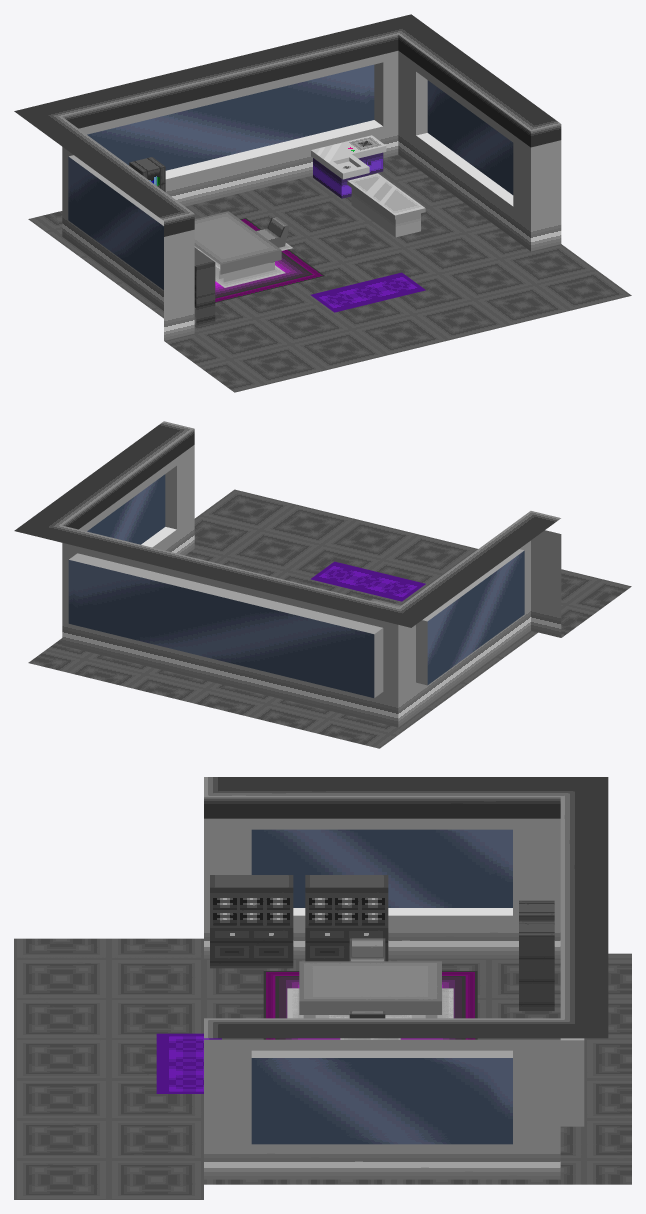
File: ROOM21.obj
3 views of the same model, one above another, from view 1: azimuth 30°, elevation 25°; view 2: azimuth 150°, elevation 25°; view 3: azimuth 270°, elevation 25° (orthographic). The views are drawn at different scales.
Parts seen in each view (by area): view 1: polygon0, polygon1, polygon2, polygon3, polygon5, polygon11, polygon7, polygon10, polygon8, polygon9, polygon6, polygon4; view 2: polygon0, polygon3, polygon1, polygon2, polygon7; view 3: polygon0, polygon1, polygon3, polygon2, polygon8, polygon5, polygon9, polygon10, polygon7, polygon6, polygon4.
Boxes of the visible parts, x1,y1,x2,y2 form: polygon0: (28, 154, 631, 392); polygon1: (62, 50, 561, 340); polygon2: (14, 14, 561, 237); polygon3: (68, 64, 513, 289); polygon5: (194, 211, 281, 282); polygon11: (311, 135, 386, 198); polygon7: (310, 272, 425, 312); polygon10: (215, 218, 324, 302); polygon8: (194, 247, 215, 326); polygon9: (129, 157, 165, 191); polygon6: (194, 243, 292, 287); polygon4: (256, 216, 289, 247); polygon0: (28, 489, 631, 748); polygon3: (68, 474, 524, 697); polygon1: (62, 445, 561, 727); polygon2: (14, 421, 560, 627); polygon7: (310, 561, 425, 601); polygon0: (14, 938, 631, 1199); polygon1: (204, 818, 584, 1179); polygon3: (251, 829, 512, 1144); polygon2: (204, 777, 608, 1038); polygon8: (210, 875, 388, 968); polygon5: (299, 961, 441, 1018); polygon9: (519, 900, 554, 1010); polygon10: (263, 971, 477, 1039); polygon7: (156, 1033, 221, 1093); polygon6: (287, 988, 453, 1039); polygon4: (349, 938, 385, 1018).
Bounding box in the file's own units: 6.5 × 1.88 × 6.5.
12 materials, 12 textured.
